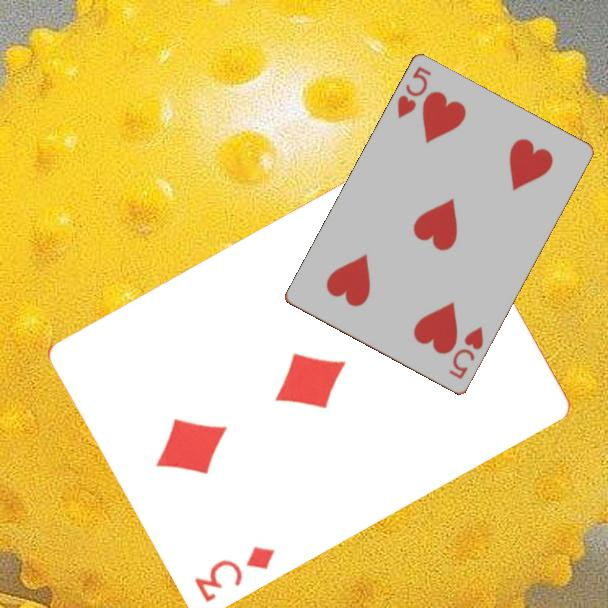d03: (191, 542, 278, 605)
h05: (445, 323, 486, 382), (394, 63, 434, 122)
